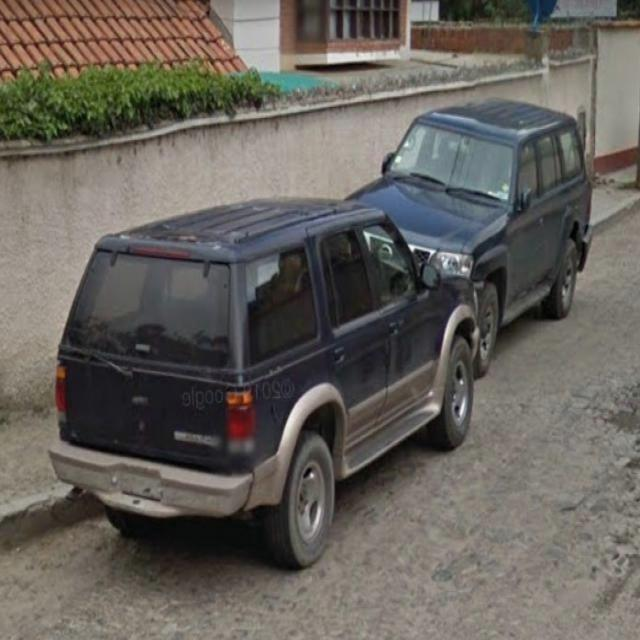Car: (36, 222, 416, 578), (419, 67, 602, 402)
